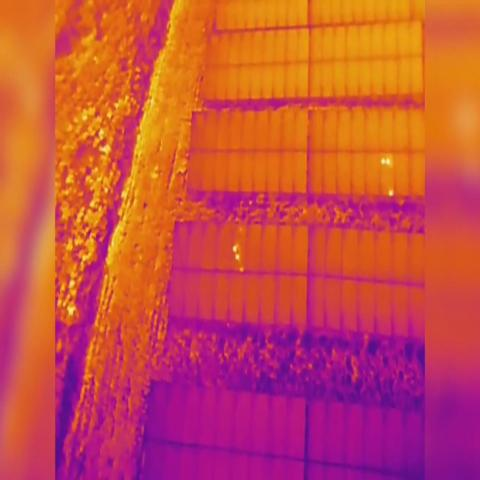fault: (380, 154, 385, 168), (230, 243, 237, 253), (238, 264, 244, 274), (234, 252, 241, 260), (385, 157, 390, 166), (389, 188, 393, 199)
